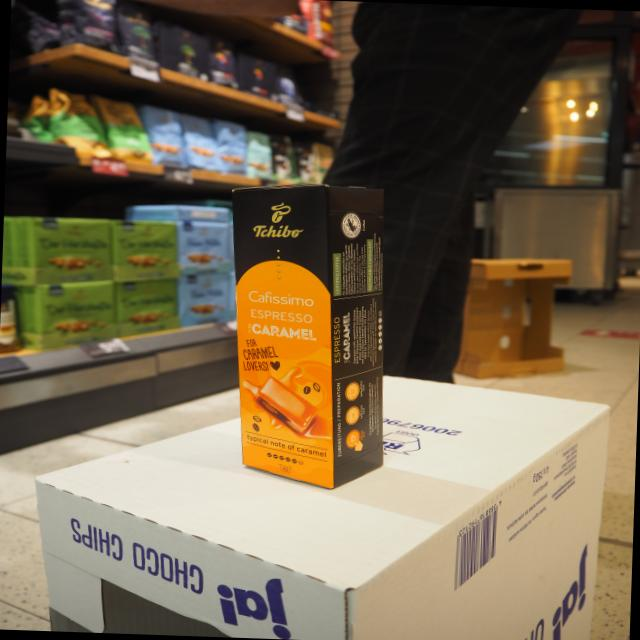Simo Es Caramel: (231, 182, 335, 492)
